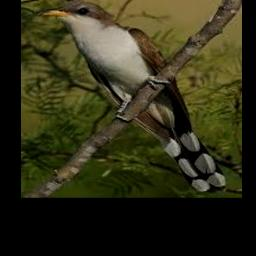Cuckoo: (39, 1, 227, 192)
